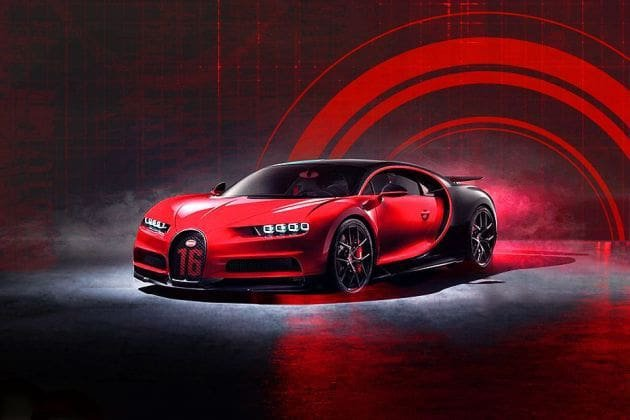car: (129, 156, 501, 292)
